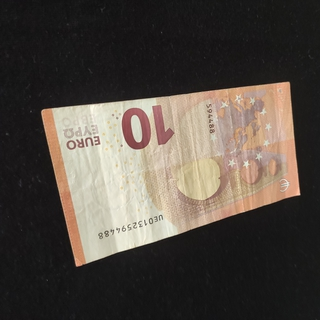10EUROBack: (40, 80, 301, 267)
